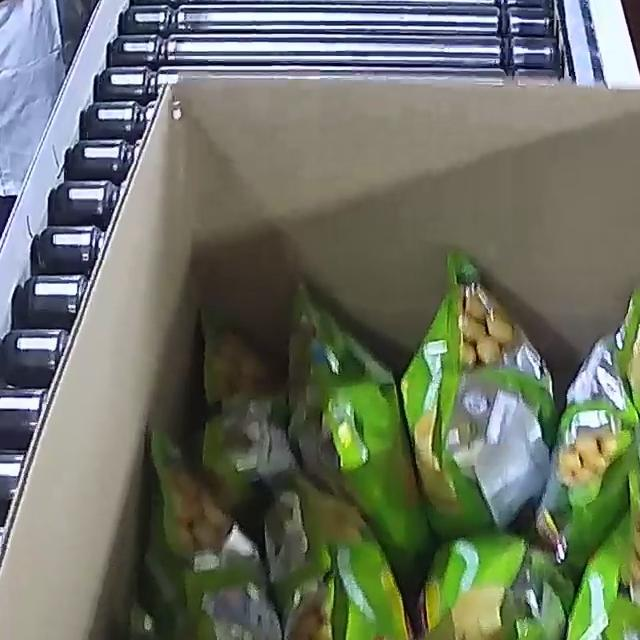yogurt: (121, 249, 640, 640)
